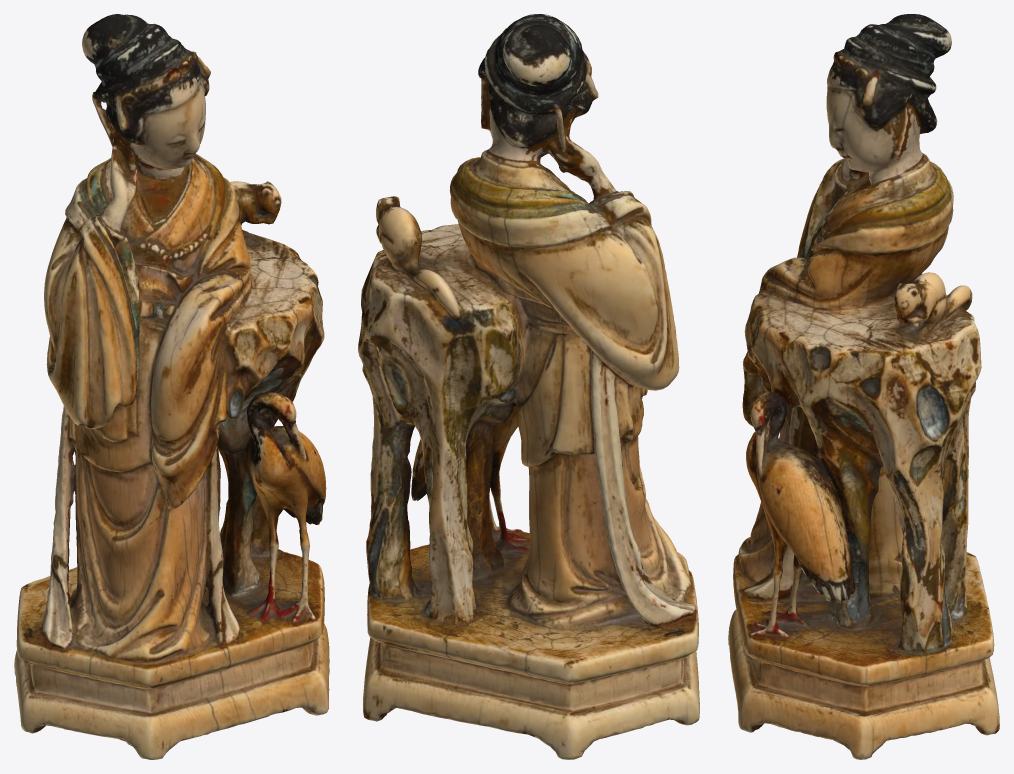
The model's file is preview.glb.
3 views of the same model, side by side, from view 1: azimuth 30°, elevation 25°; view 2: azimuth 150°, elevation 25°; view 3: azimuth 270°, elevation 25° (orthographic). The views are drawn at different scales.
Parts seen in each view (by area): view 1: Object_2; view 2: Object_2; view 3: Object_2.
Part boxes in pixels (box(x1,y1,x2,y2)): Object_2: box(14, 14, 329, 759); Object_2: box(358, 14, 699, 759); Object_2: box(728, 14, 999, 759).
Bounding box in the file's own units: 0.0795 × 0.1629 × 0.0609.
1 material, 1 textured.
